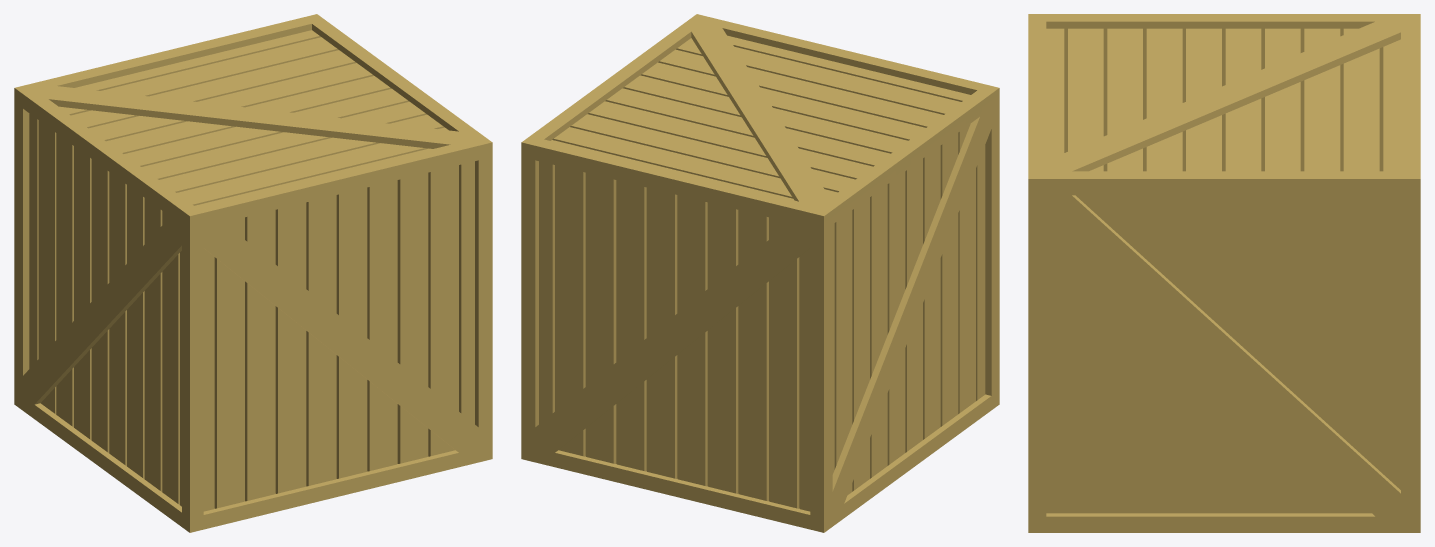
Rendered from SM_Crate.fbx.
3 renders of one model, left to right at view 1: azimuth 30°, elevation 25°; view 2: azimuth 150°, elevation 25°; view 3: azimuth 270°, elevation 25°, orthographic. The views are drawn at different scales.
Parts seen in each view (by area): view 1: SM_Crate; view 2: SM_Crate; view 3: SM_Crate.
Boxes of the visible parts, bbox=[...] form: SM_Crate: bbox=[14, 14, 492, 532]; SM_Crate: bbox=[521, 14, 999, 532]; SM_Crate: bbox=[1028, 14, 1420, 532].
Size of the model in its own units: 100 by 100 by 100.
